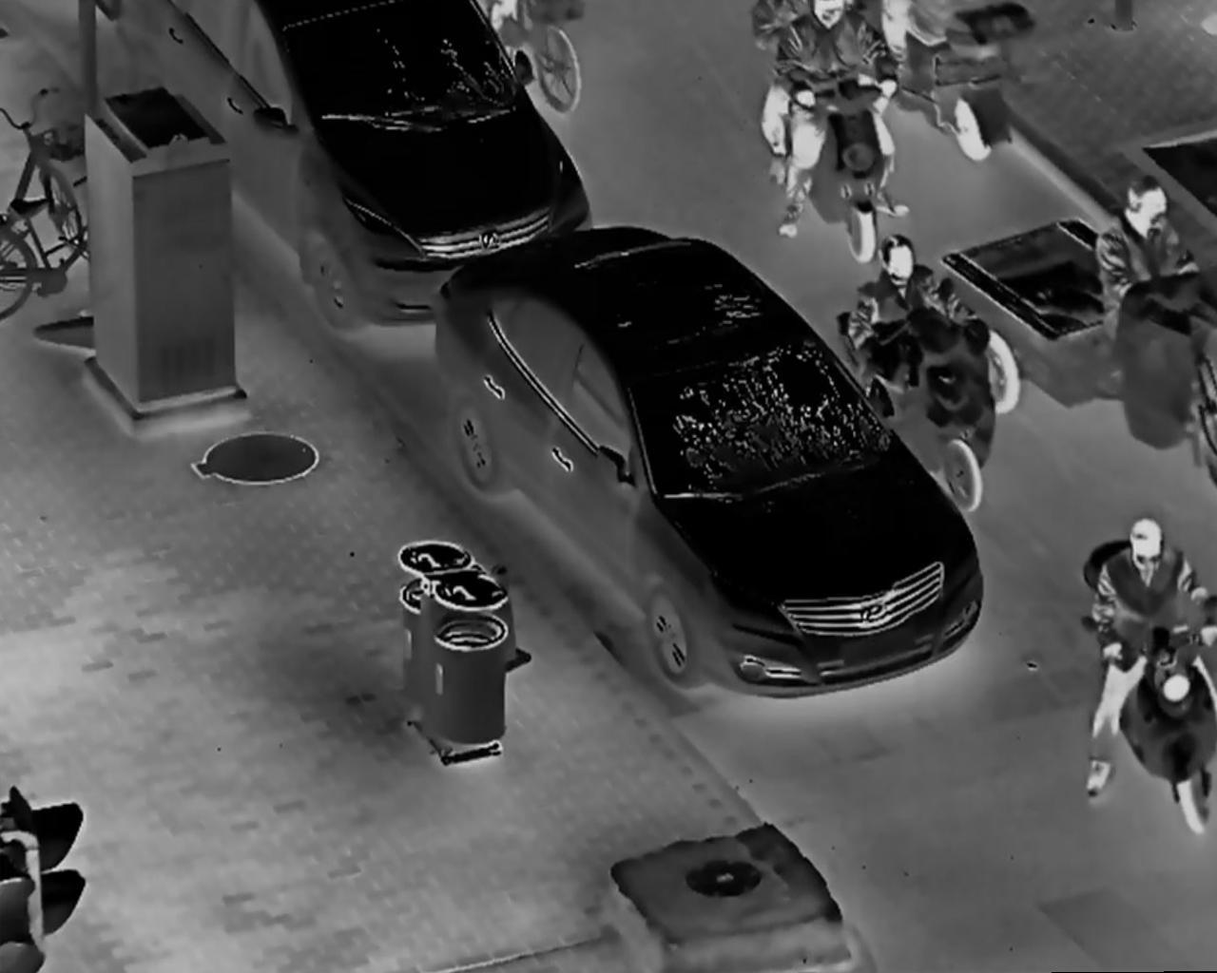person: (1086, 515, 1217, 802), (841, 233, 956, 466), (1093, 175, 1204, 397)
